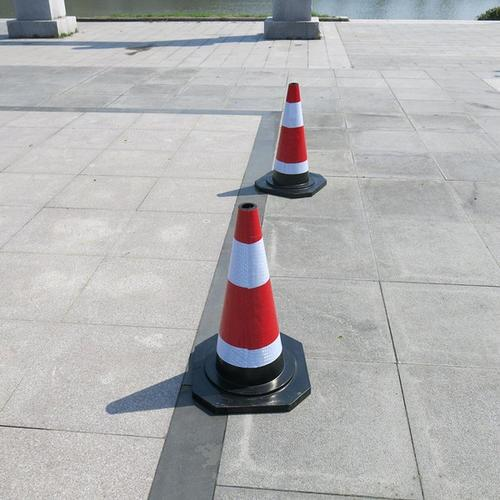cone_barrel: (177, 194, 317, 415), (252, 79, 332, 197)
